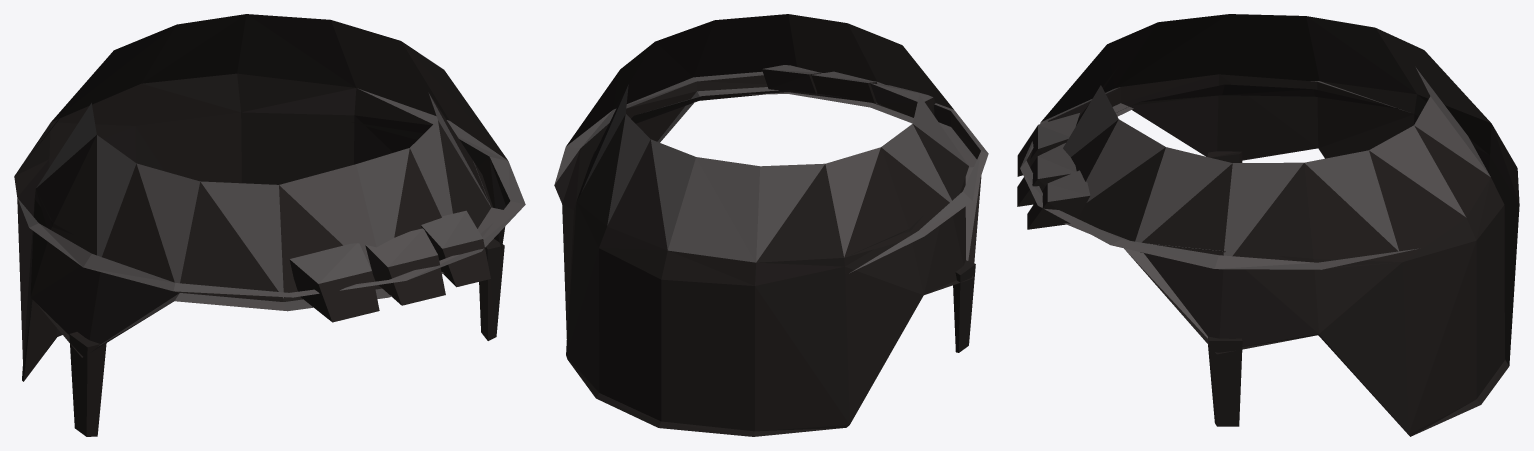
Rendered from hair_short_01_hatcut.glb.
3 views of the same model, side by side, from view 1: azimuth 30°, elevation 25°; view 2: azimuth 150°, elevation 25°; view 3: azimuth 270°, elevation 25° (orthographic). The views are drawn at different scales.
Parts seen in each view (by area): view 1: hair_short_01_hatcut; view 2: hair_short_01_hatcut; view 3: hair_short_01_hatcut.
Part boxes in pixels (box(x1,y1,x2,y2)): hair_short_01_hatcut: box(14, 14, 525, 436); hair_short_01_hatcut: box(554, 14, 988, 436); hair_short_01_hatcut: box(1017, 14, 1519, 436).
Bounding box in the file's own units: 0.2703 × 0.1903 × 0.2966.
Materials: 1 (1 with a texture image).
